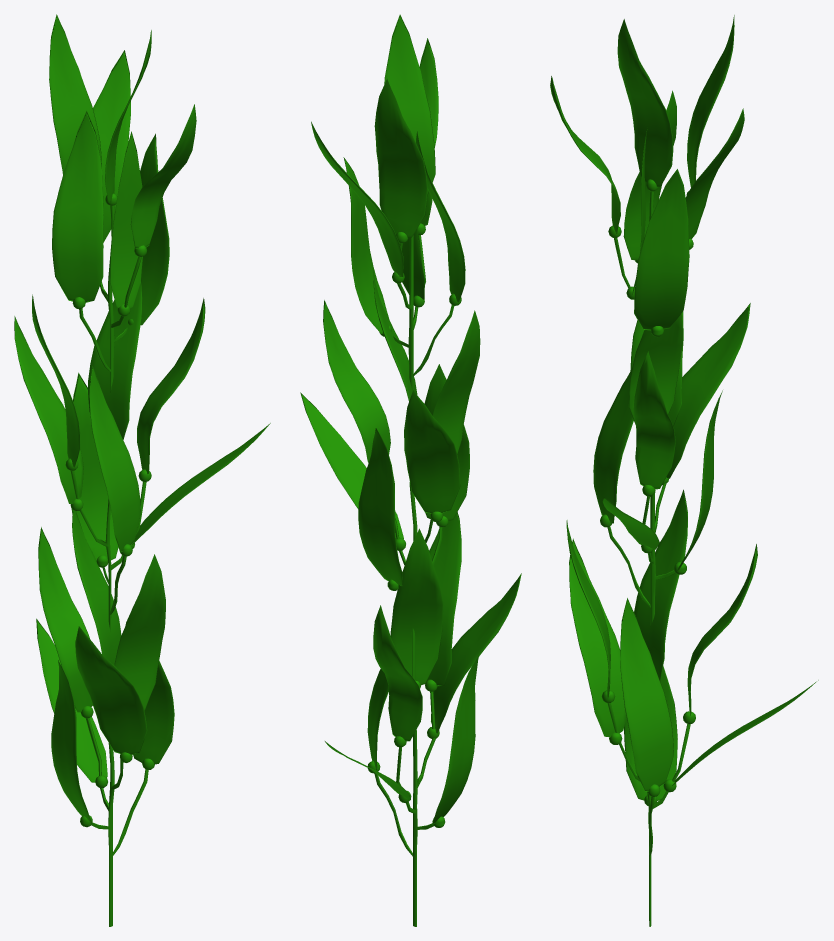
Rendered from dkelp.fbx.
3 renders of one model, left to right at view 1: azimuth 30°, elevation 25°; view 2: azimuth 150°, elevation 25°; view 3: azimuth 270°, elevation 25°, orthographic. The views are drawn at different scales.
Parts seen in each view (by area): view 1: Cylinder_018; view 2: Cylinder_018; view 3: Cylinder_018.
Part boxes in pixels (<box>): Cylinder_018: <box>14,14,270,926</box>; Cylinder_018: <box>300,14,521,926</box>; Cylinder_018: <box>550,15,818,926</box>.
Size of the model in its own units: 7.29 by 30.19 by 8.01.
